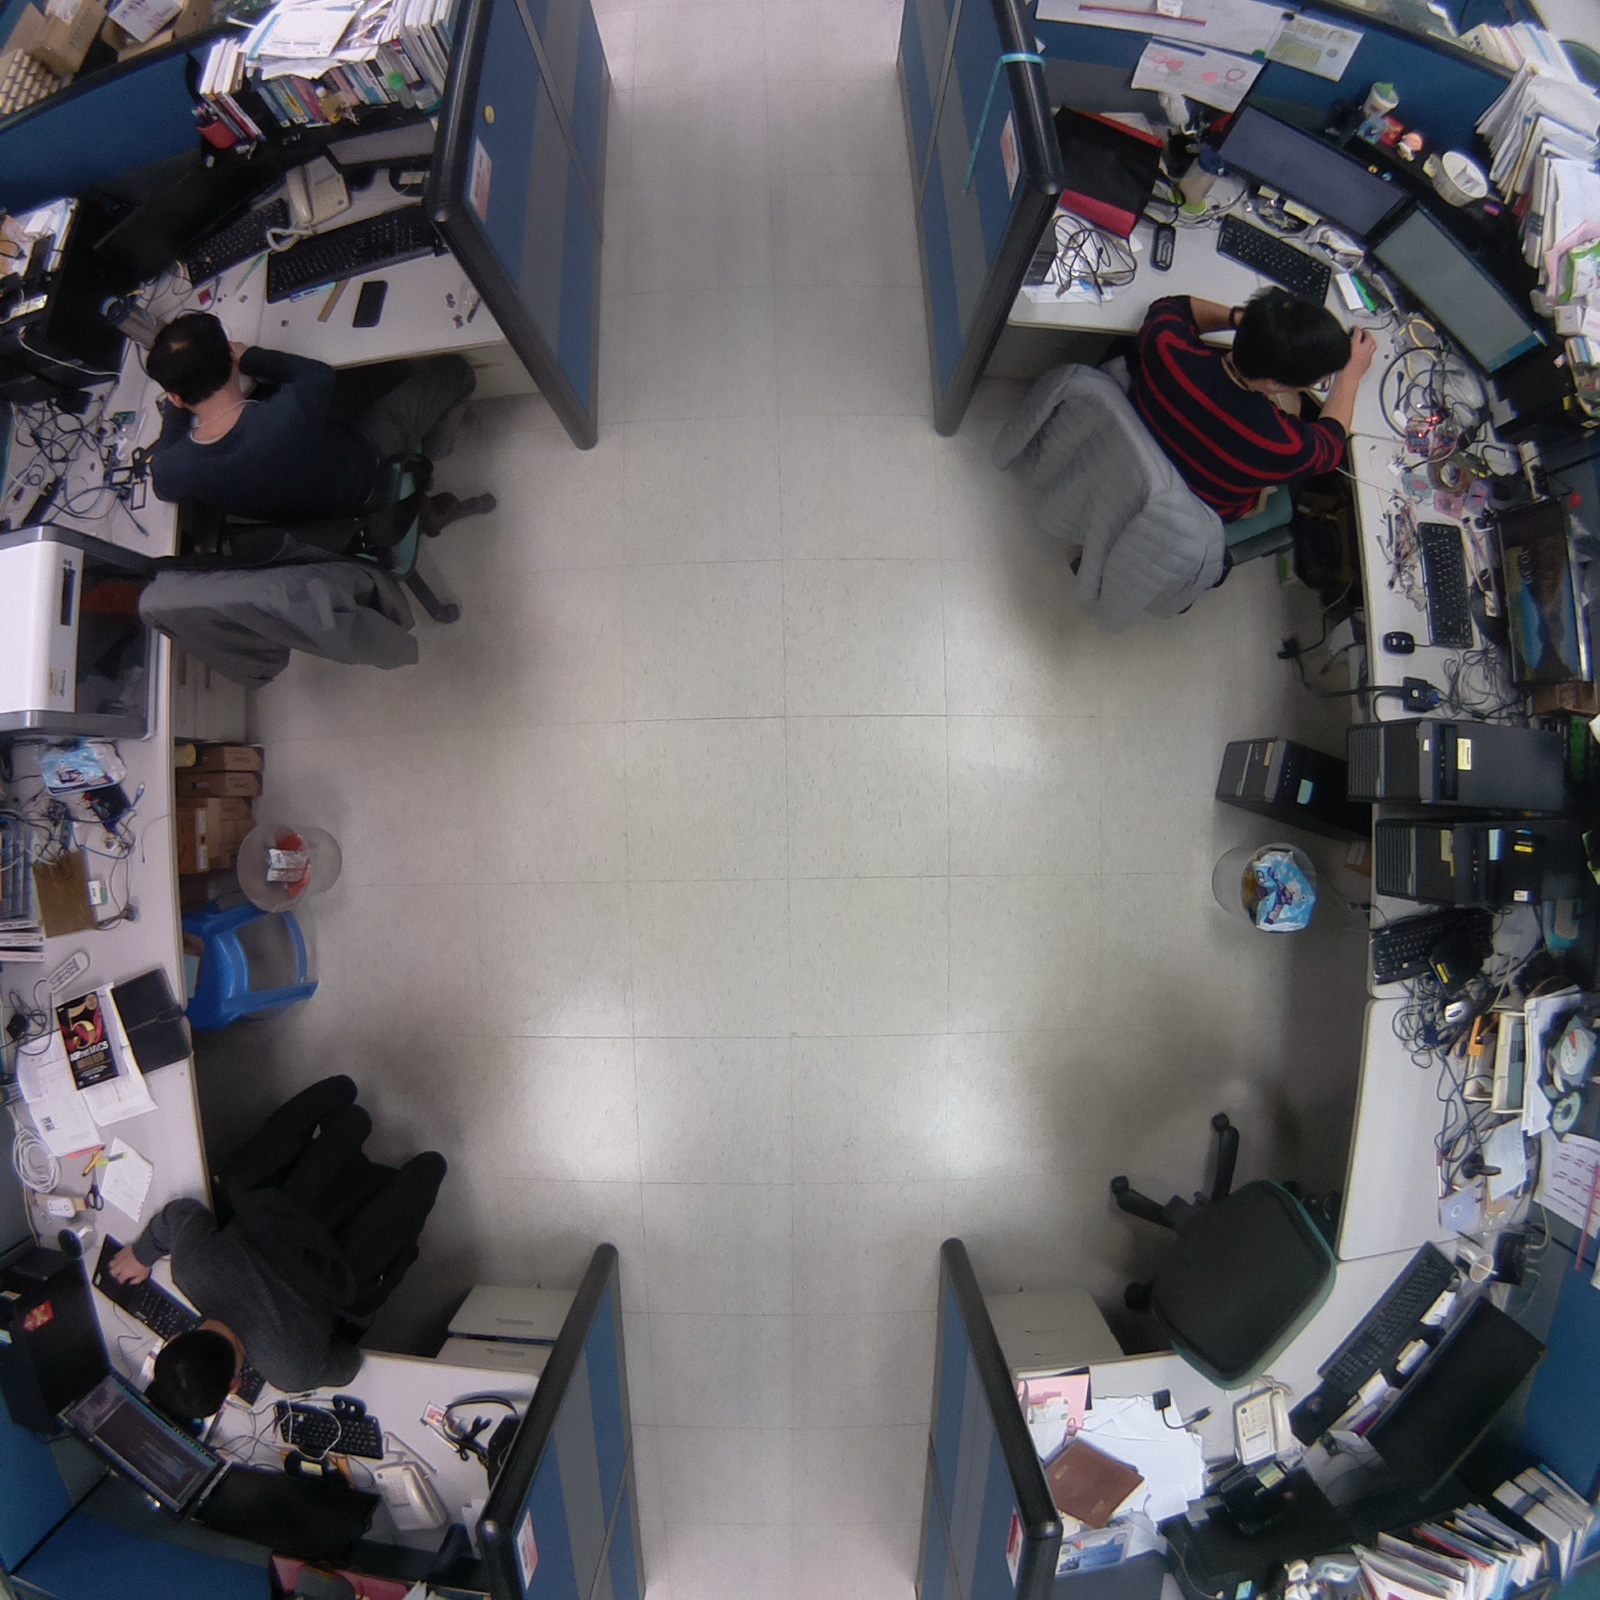chair: (1101, 1093, 1353, 1404)
head: (1223, 295, 1359, 395), (134, 304, 246, 412), (140, 1321, 240, 1425)
sitting: (127, 303, 514, 699), (976, 275, 1383, 642), (93, 1060, 460, 1426)
